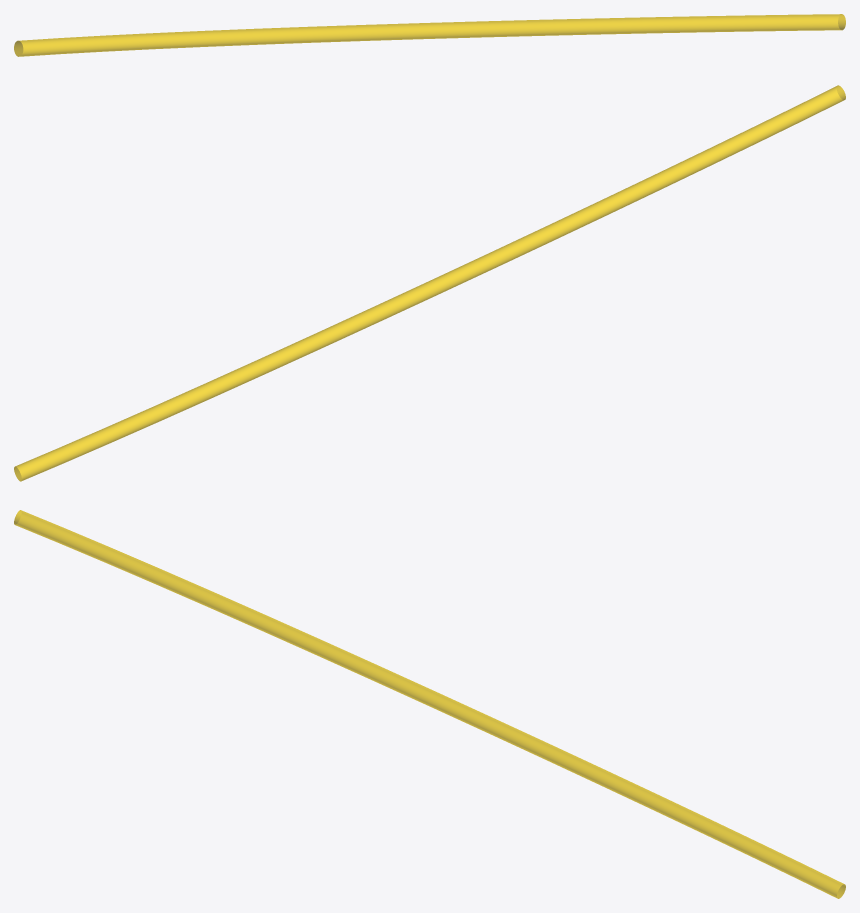
File: Event_17758602_track_167.fbx
3 renders of one model, top to bottom at view 1: azimuth 30°, elevation 25°; view 2: azimuth 210°, elevation 25°; view 3: azimuth 330°, elevation 25°, orthographic.
Visible parts, largest first — view 1: Model; view 2: Model; view 3: Model.
Boxes of the visible parts, bbox=[...] form: Model: bbox=[14, 14, 845, 56]; Model: bbox=[14, 85, 845, 481]; Model: bbox=[14, 510, 845, 898].
Bounding box in the file's own units: 2.36 × 0.5211 × 0.0758.
